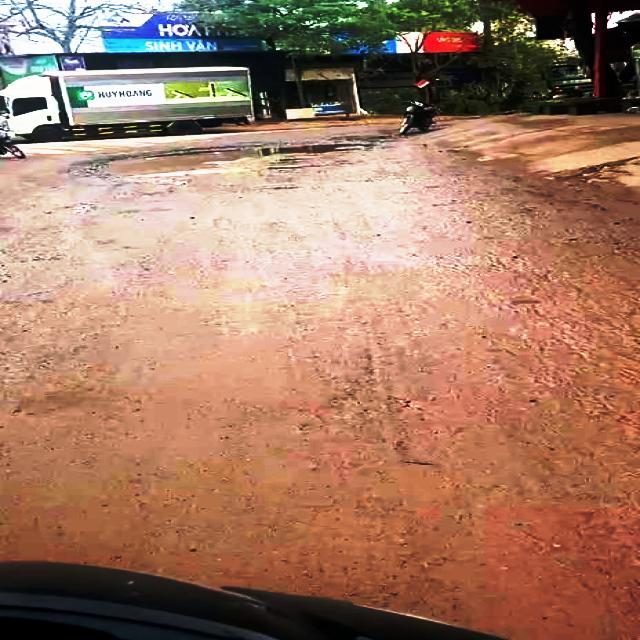pothole: (81, 140, 392, 183)
